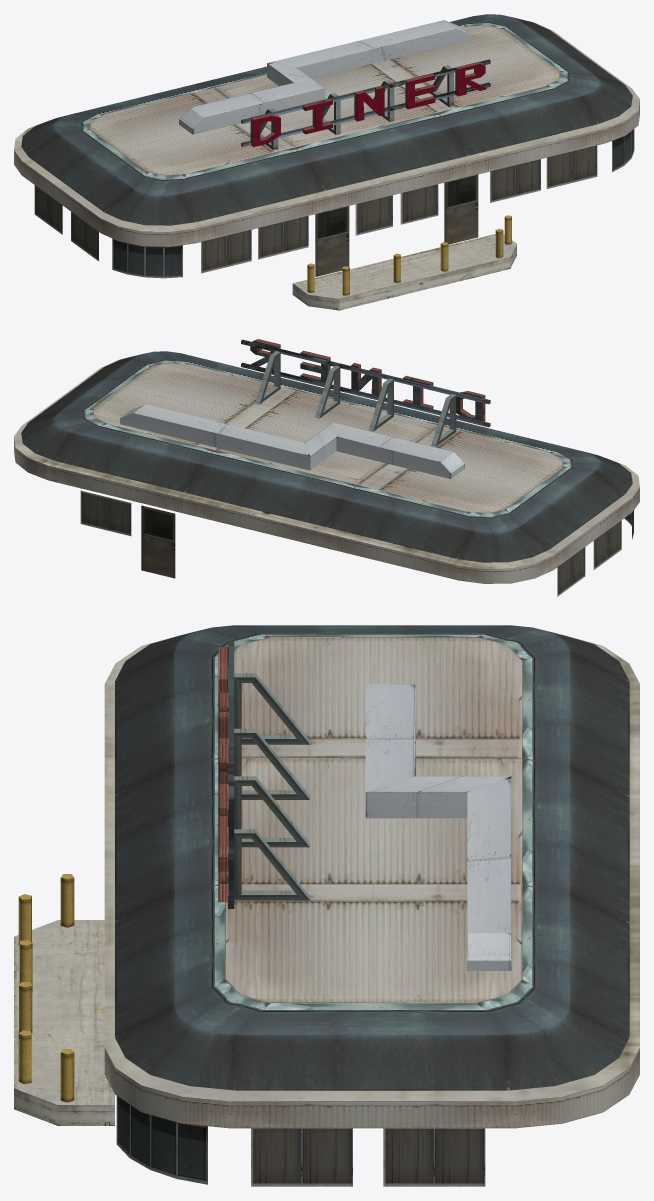
File: rural_diner_2_rural_facade_flr_2_0_lev2.glb
The picture shows the model from 3 angles, top to bottom: view 1: azimuth 30°, elevation 25°; view 2: azimuth 150°, elevation 25°; view 3: azimuth 270°, elevation 25°; orthographic projection. The views are drawn at different scales.
Parts seen in each view (by area): view 1: rural_diner_2_rural_facade_flr_2_0_lev2; view 2: rural_diner_2_rural_facade_flr_2_0_lev2; view 3: rural_diner_2_rural_facade_flr_2_0_lev2.
Boxes of the visible parts, x1,y1,x2,y2 form: rural_diner_2_rural_facade_flr_2_0_lev2: (14,14,639,310); rural_diner_2_rural_facade_flr_2_0_lev2: (14,339,639,596); rural_diner_2_rural_facade_flr_2_0_lev2: (14,625,639,1186).
Size of the model in its own units: 11.08 by 3.13 by 6.22.
1 material, 1 textured.
